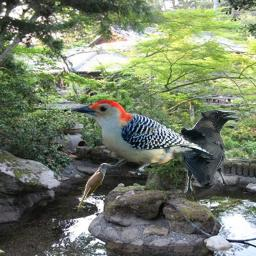Crow: (179, 107, 238, 202)
Cuckoo: (76, 163, 111, 212)
Woodpecker: (71, 100, 213, 177)
